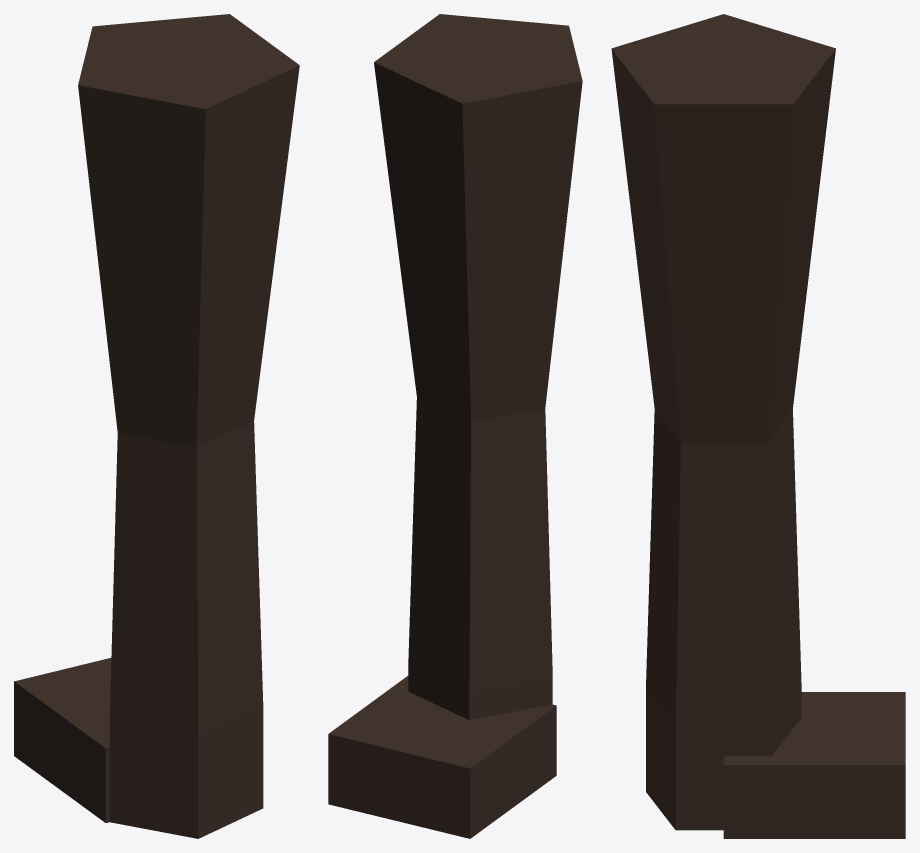
The model's file is animal_fox_red_leg.obj.
3 views of the same model, side by side, from view 1: azimuth 30°, elevation 25°; view 2: azimuth 150°, elevation 25°; view 3: azimuth 270°, elevation 25° (orthographic). The views are drawn at different scales.
Parts seen in each view (by area): view 1: animal_fox_red_leg; view 2: animal_fox_red_leg; view 3: animal_fox_red_leg.
Part boxes in pixels (x1,y1,x2,y2): animal_fox_red_leg: (14,14,299,838); animal_fox_red_leg: (328,14,582,838); animal_fox_red_leg: (611,14,905,838).
Bounding box in the file's own units: 0.0659 × 0.2511 × 0.0906.
